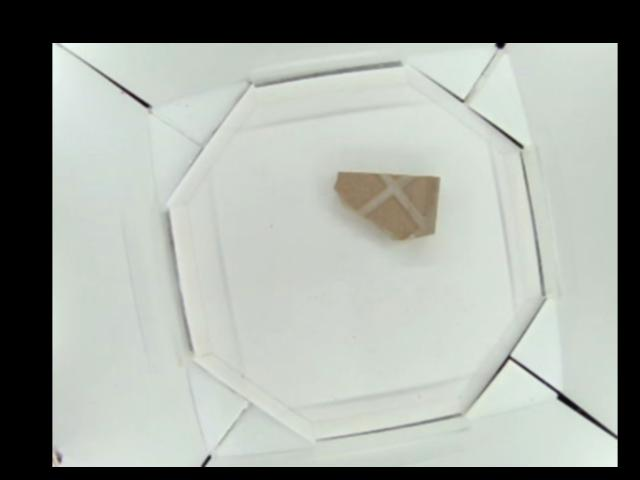China: (335, 174, 440, 239)
